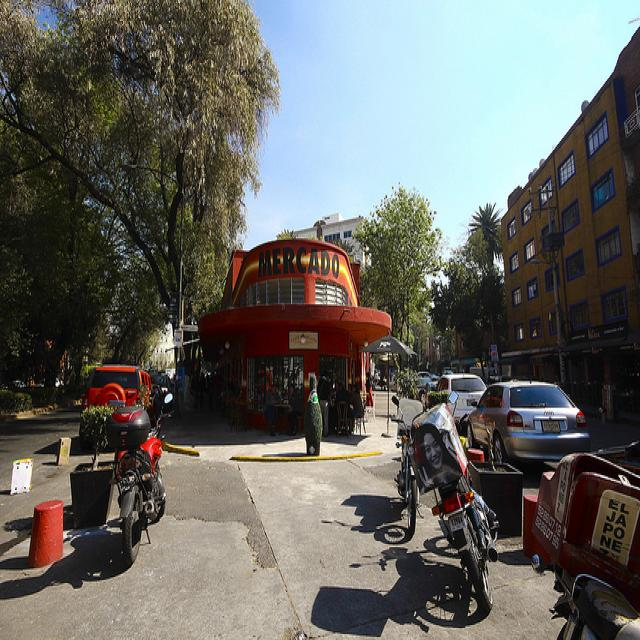motor: (107, 409, 175, 566), (434, 485, 499, 617), (553, 571, 617, 633)
